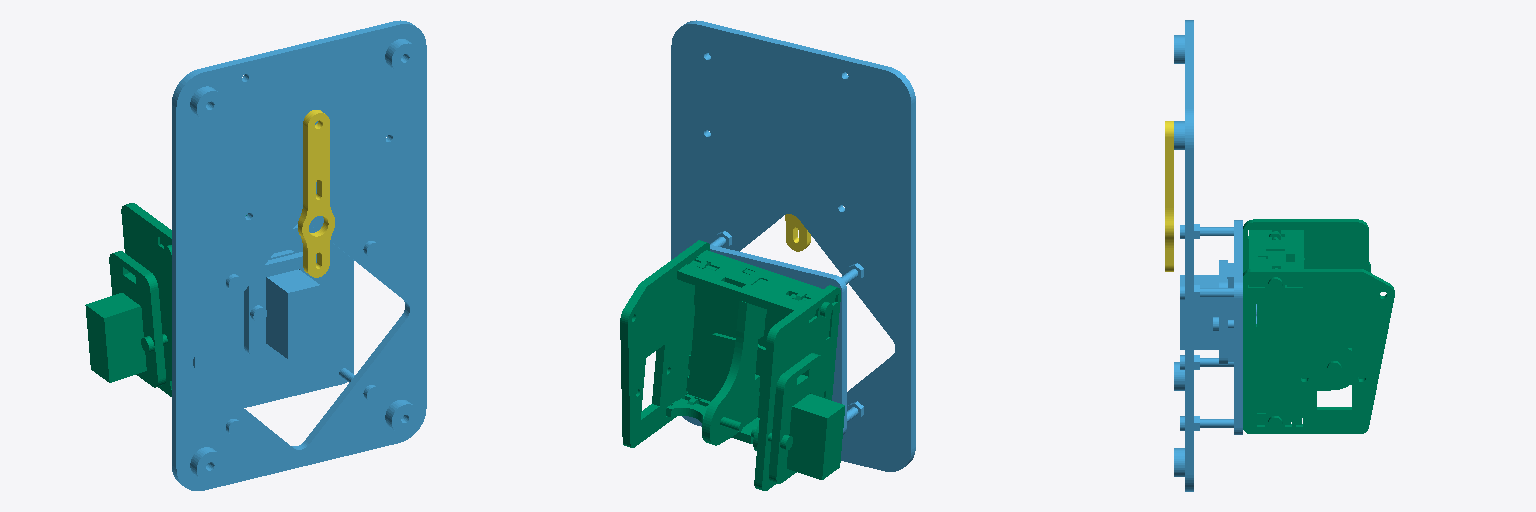
URDF robot description (robot):
<robot name="robot">
    <link name="map"/>
    <link name="base">
        <visual>
            <geometry>
                <mesh filename="package://eye_on_you/meshes/base.stl" />
            </geometry>
        </visual>
        <collision>
            <geometry>
                <mesh filename="package://eye_on_you/meshes/base.stl" />
            </geometry>
        </collision>
    </link>
    <link name="home">
        <visual>
            <origin xyz="-1.47 -31.7 40.5" />  
            <geometry>
                <mesh filename="package://eye_on_you/meshes/home.stl" />
            </geometry>
        </visual>
        <collision>
            <origin xyz="-1.47 -31.7 40.5" />  
            <geometry>
                <mesh filename="package://eye_on_you/meshes/home.stl" />
            </geometry>
        </collision>
    </link>
    <link name="arm">
        <visual>
            <origin xyz="14.17 -89.3 99.4" /> 
            <geometry>
                <mesh filename="package://eye_on_you/meshes/arm.stl" />
            </geometry>
        </visual>
        <collision>
            <origin xyz="14.17 -89.3 99.4" />  
            <geometry>
                <mesh filename="package://eye_on_you/meshes/arm.stl" />
            </geometry>
        </collision>
    </link>

    <joint name="world_robot_joint" type="fixed">
        <axis xyz="0 0 1" />
        <origin xyz="0 0 0"/>
        <parent link="map"/>
        <child link="base"/>
    </joint>

    <joint name="base_home_joint" type="revolute">
        <axis xyz="0 1 0" />
        <limit lower="-0.7853" upper="0.7853" effort="1000.0" velocity="0.5"/>
        <origin xyz="1.47 31.7 -40.5"/>  <!-- Changed center of rotation -->
        <parent link="base"/>
        <child link="home"/>
    </joint>

    <joint name="home_arm_joint" type="revolute">
        <axis xyz="1 0 0" />
        <limit lower="-1.57" upper="1.0" effort="1000.0" velocity="0.5"/>
        <origin rpy="0 0 0" xyz="-12 57.6 -58.9"/>  
        <parent link="home"/>
        <child link="arm"/>
    </joint>

</robot>    

--- What the picture shows (computed from the rendered views, not written in the file) ---
The picture shows the robot from 3 angles, left to right: view 1: azimuth 30°, elevation 25°; view 2: azimuth 150°, elevation 25°; view 3: azimuth 270°, elevation 25°; orthographic projection.
Model robot with 4 links and 3 joints (2 revolute, 1 fixed), rooted at map, posed every joint at zero.
Visible links, largest first — view 1: base, home, arm; view 2: base, home, arm; view 3: home, base, arm.
Boxes of the visible links, x1=… form: base: x1=172, y1=20, x2=426, y2=490; home: x1=85, y1=203, x2=246, y2=396; arm: x1=298, y1=110, x2=334, y2=277; base: x1=671, y1=20, x2=915, y2=471; home: x1=620, y1=240, x2=844, y2=490; arm: x1=785, y1=214, x2=810, y2=251; home: x1=1243, y1=219, x2=1394, y2=433; base: x1=1174, y1=20, x2=1256, y2=491; arm: x1=1165, y1=121, x2=1173, y2=271.
Size in the robot's own frame: 90.71 by 79.56 by 145 metres.
3 mesh visuals loaded from 3 distinct referenced files (3 binary STL).